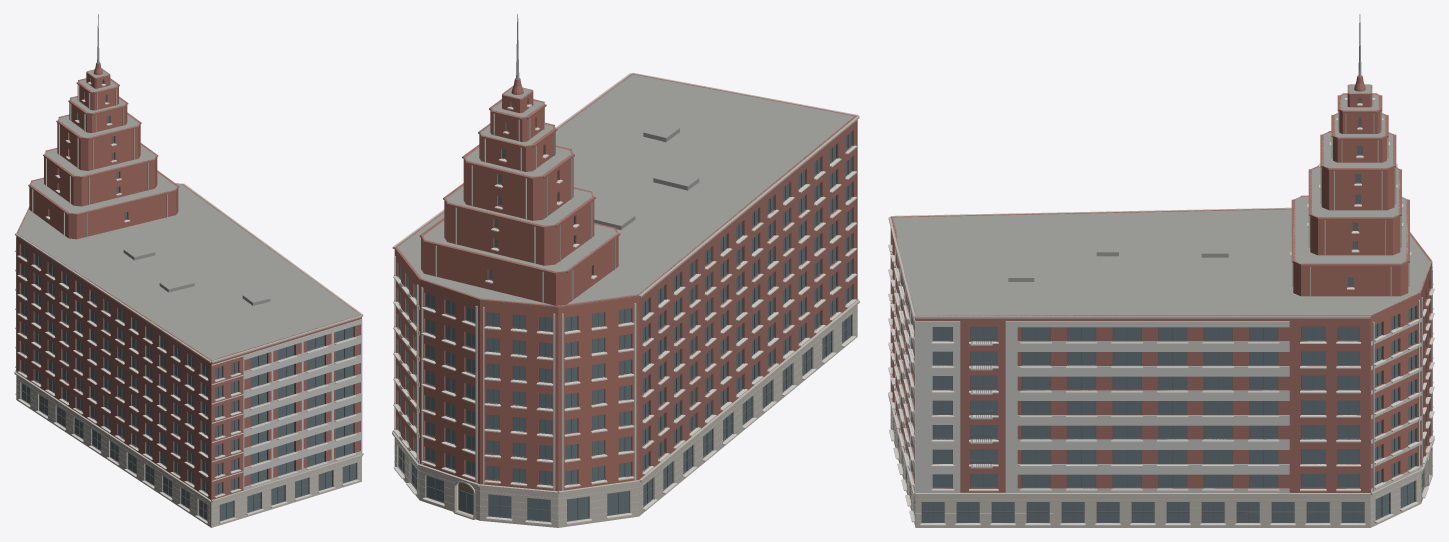
Rendered from huangpu-chung-wei-bank-building-raw.glb.
The picture shows the model from 3 angles, left to right: view 1: azimuth 30°, elevation 25°; view 2: azimuth 150°, elevation 25°; view 3: azimuth 270°, elevation 25°; orthographic projection. The views are drawn at different scales.
Visible parts, largest first — view 1: 中汇大楼（原中汇银行大楼）; view 2: 中汇大楼（原中汇银行大楼）; view 3: 中汇大楼（原中汇银行大楼）.
Part boxes in pixels (x1=…): 中汇大楼（原中汇银行大楼）: x1=14, y1=14, x2=363, y2=527; 中汇大楼（原中汇银行大楼）: x1=392, y1=14, x2=859, y2=527; 中汇大楼（原中汇银行大楼）: x1=888, y1=14, x2=1434, y2=527.
Size of the model in its own units: 35.58 by 67.99 by 73.3.
